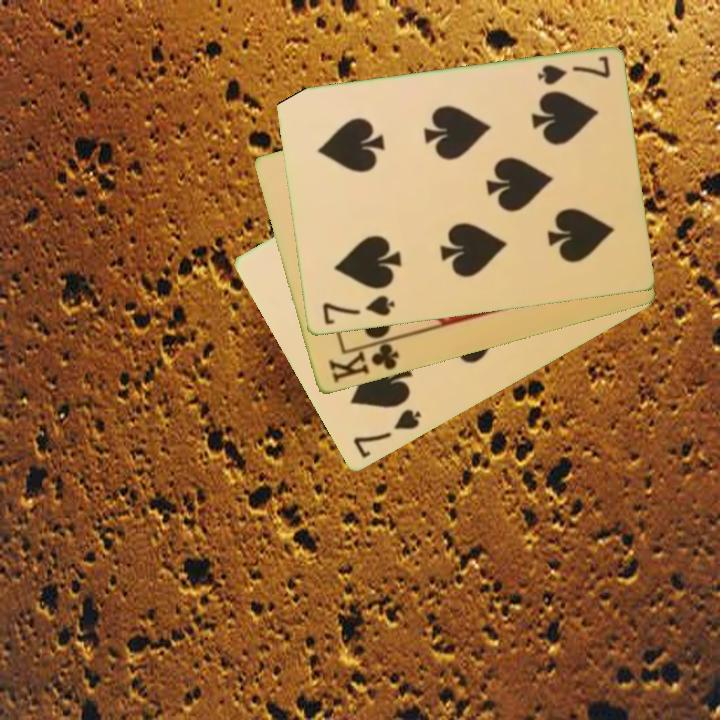7s: (349, 405, 425, 462), (318, 292, 398, 328), (533, 53, 613, 88)
Kc: (324, 335, 402, 386)
